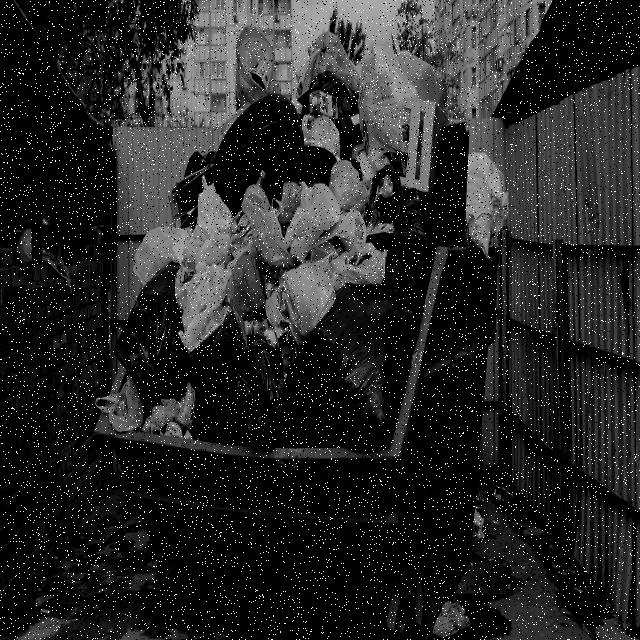Trashcan: (91, 63, 521, 638)
